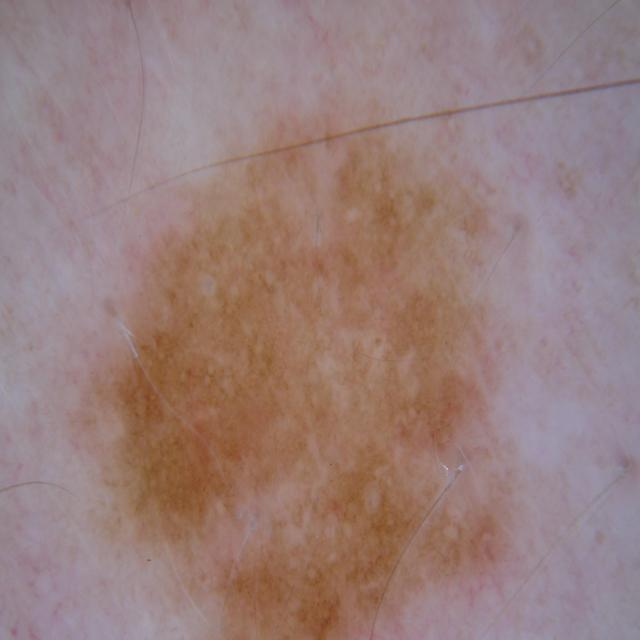Melanoma: (78, 85, 532, 640)
